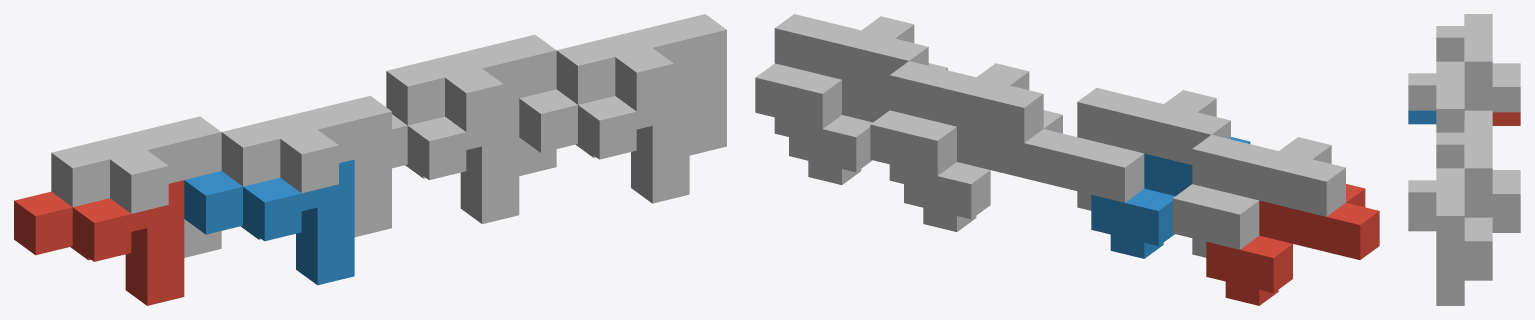
File: tiling.obj
3 views of the same model, side by side, from view 1: azimuth 30°, elevation 25°; view 2: azimuth 150°, elevation 25°; view 3: azimuth 270°, elevation 25° (orthographic). The views are drawn at different scales.
Visible parts, largest first — view 1: copy_1_domain_8, copy_1_domain_4, copy_1_domain_1, copy_1_domain_2, copy_1_domain_6, copy_1_domain_3, copy_1_domain_7, copy_1_domain_5; view 2: copy_1_domain_7, copy_1_domain_3, copy_1_domain_4, copy_1_domain_8, copy_1_domain_1, copy_1_domain_5, copy_1_domain_2, copy_1_domain_6; view 3: copy_1_domain_8, copy_1_domain_7, copy_1_domain_3, copy_1_domain_4, copy_1_domain_6, copy_1_domain_2, copy_1_domain_1, copy_1_domain_5.
Boxes of the visible parts, left/top/right/bottom form: copy_1_domain_8: left=556, top=14, right=726, bottom=155; copy_1_domain_4: left=221, top=95, right=391, bottom=237; copy_1_domain_1: left=14, top=180, right=184, bottom=305; copy_1_domain_2: left=184, top=159, right=354, bottom=285; copy_1_domain_6: left=519, top=78, right=689, bottom=203; copy_1_domain_3: left=51, top=116, right=221, bottom=257; copy_1_domain_7: left=386, top=34, right=556, bottom=175; copy_1_domain_5: left=392, top=98, right=519, bottom=224; copy_1_domain_7: left=870, top=61, right=1043, bottom=183; copy_1_domain_3: left=1172, top=134, right=1345, bottom=257; copy_1_domain_4: left=1057, top=88, right=1230, bottom=210; copy_1_domain_8: left=755, top=14, right=928, bottom=136; copy_1_domain_1: left=1206, top=184, right=1379, bottom=305; copy_1_domain_5: left=904, top=110, right=1076, bottom=231; copy_1_domain_2: left=1091, top=137, right=1250, bottom=258; copy_1_domain_6: left=789, top=63, right=947, bottom=184; copy_1_domain_8: left=1408, top=168, right=1492, bottom=292; copy_1_domain_7: left=1436, top=121, right=1520, bottom=219; copy_1_domain_3: left=1436, top=14, right=1520, bottom=112; copy_1_domain_4: left=1408, top=61, right=1492, bottom=132; copy_1_domain_6: left=1408, top=217, right=1492, bottom=305; copy_1_domain_2: left=1408, top=110, right=1436, bottom=124; copy_1_domain_1: left=1492, top=112, right=1520, bottom=125; copy_1_domain_5: left=1492, top=219, right=1520, bottom=232.
Bounding box in the file's own units: 18 × 4 × 4.
